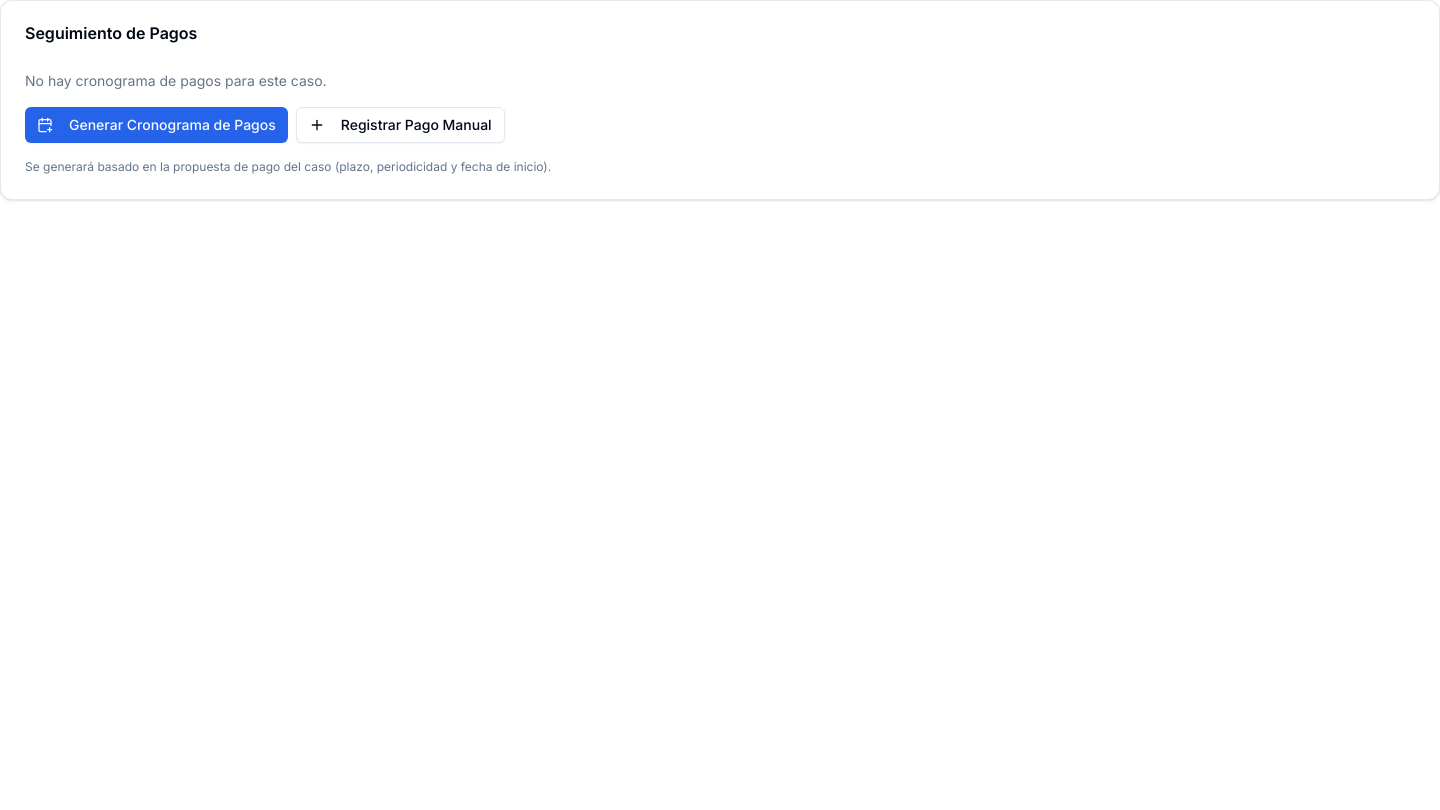
diálogo de pago en detalle del caso › anuncia el límite real
Expected: the text "No hay cronograma de pagos para este caso." is shown, [25,72,327,89]
Step 1. Click the button "Registrar Pago Manual" → (400, 125), box [296,107,505,143]
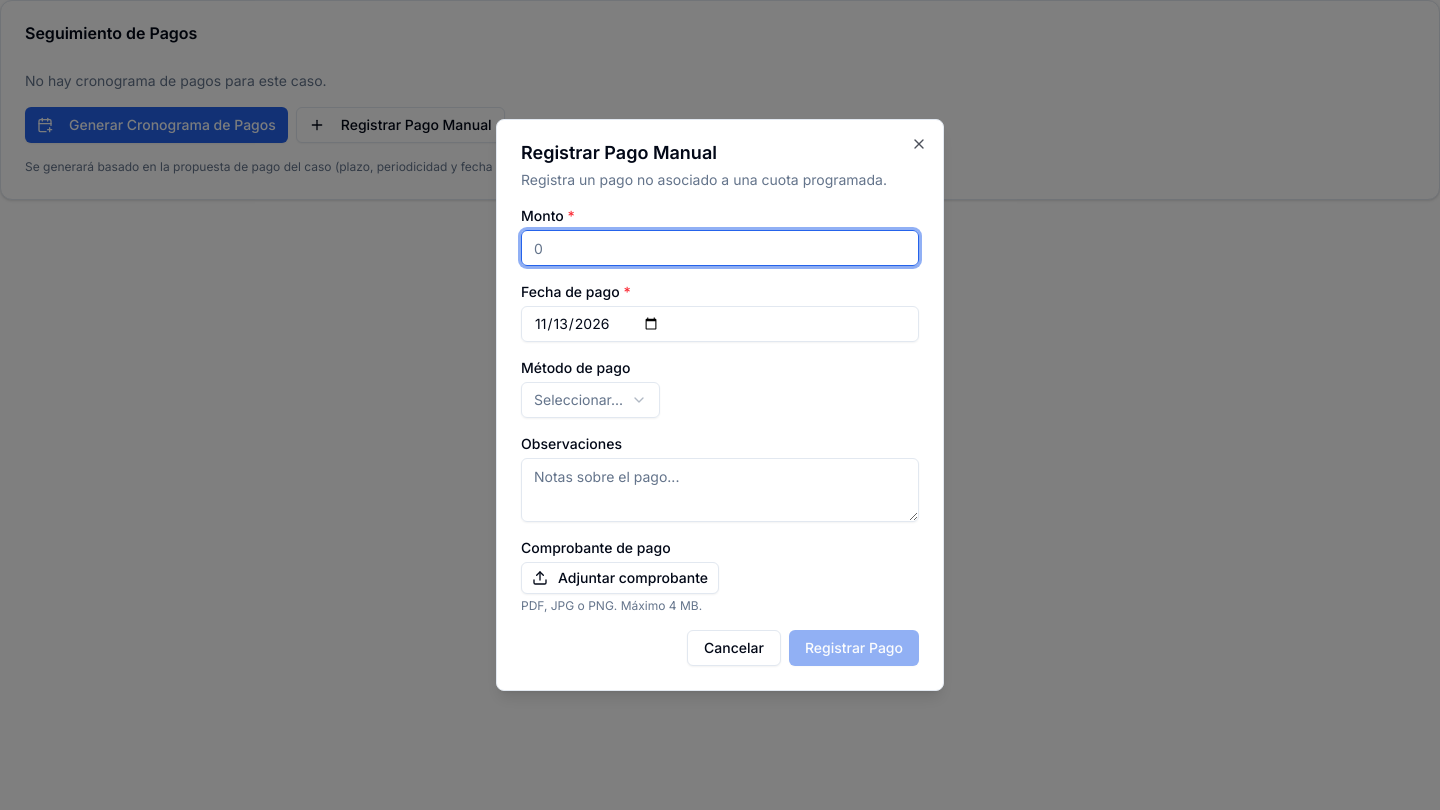
Expected: the text "PDF, JPG o PNG. Máximo 4 MB." is shown, [521,598,702,613]
